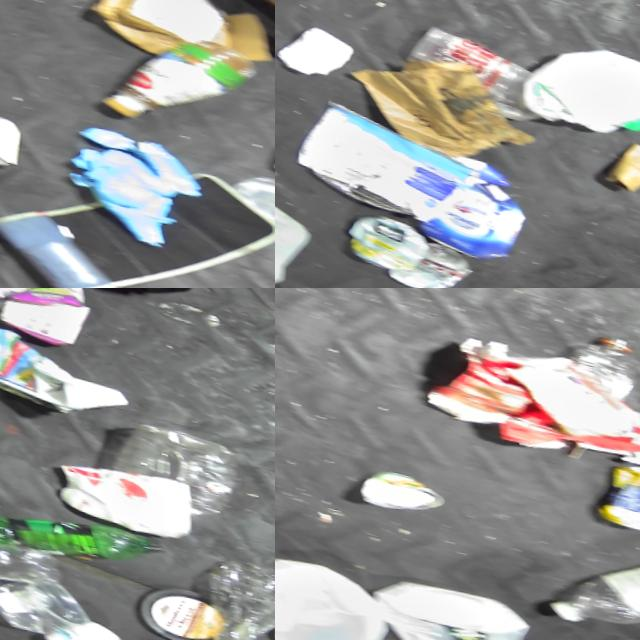can: (338, 201, 429, 273), (351, 454, 445, 518), (382, 227, 468, 288), (586, 441, 640, 530), (226, 161, 275, 229)
milk_jug: (510, 17, 640, 143), (0, 309, 135, 423), (362, 560, 531, 640), (275, 532, 393, 640), (0, 288, 99, 347)
plastic_bottle: (539, 522, 640, 630), (181, 539, 275, 640), (560, 312, 640, 393), (0, 509, 64, 595)
